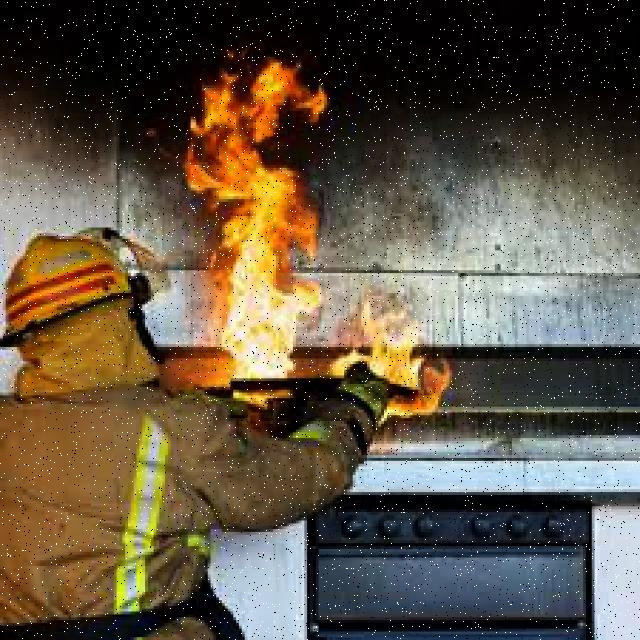fire: (192, 57, 318, 374), (359, 302, 450, 404)
